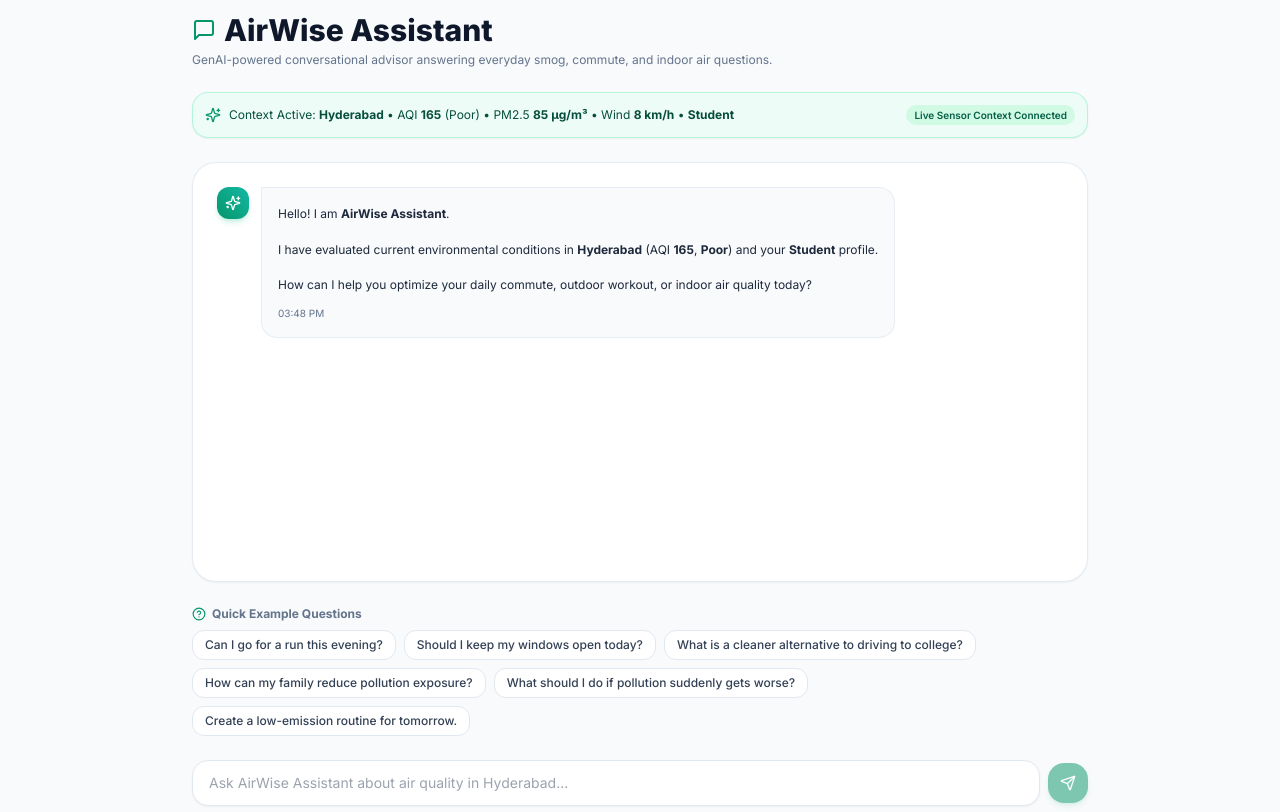
Test case: AirWise AI Frontend Application Tests › renders AssistantPage replies safely without injecting raw HTML script tags
The width and height of the screenshot is (1280, 812).
Type "Can I jog outside?" into the field with placeholder "Ask AirWise Assistant about air quality in Hyderabad..." at (616, 783), box [192, 760, 1040, 806]
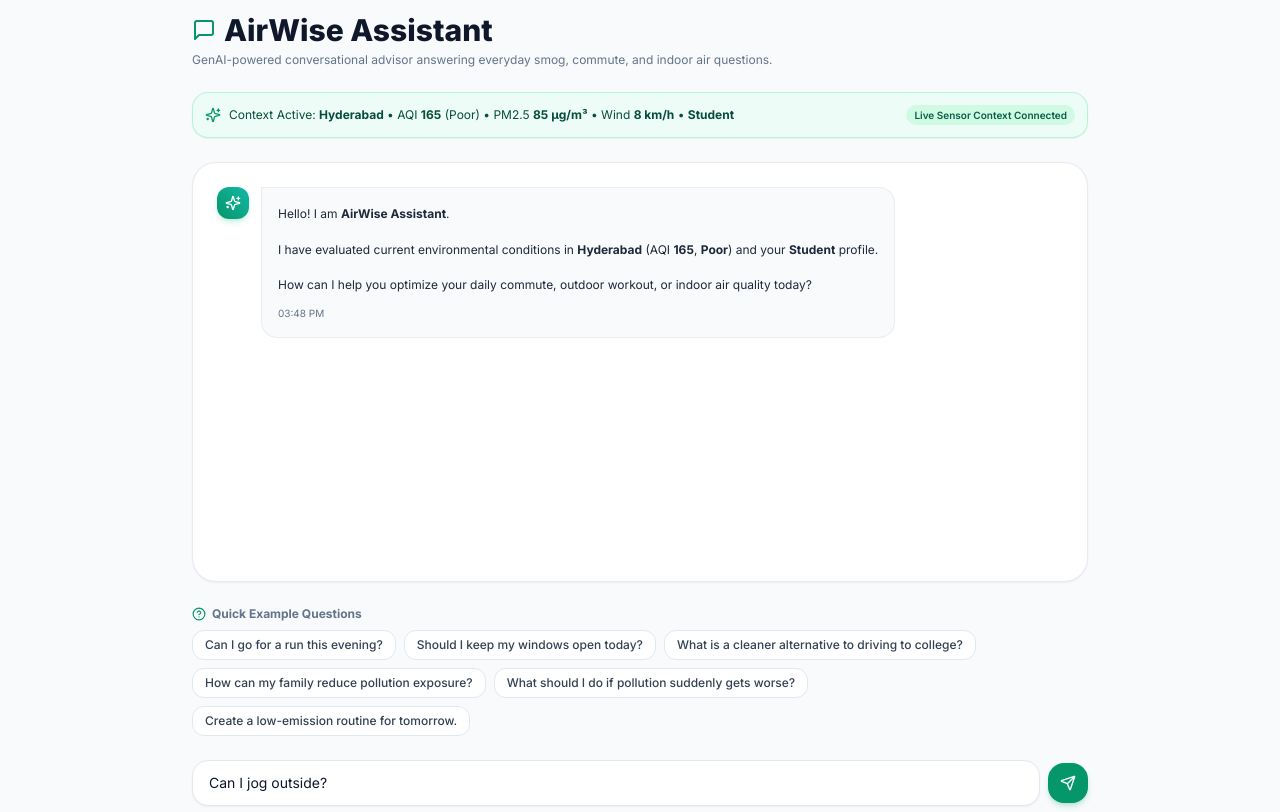
Submit the form with placeholder "Ask AirWise Assistant about air quality in Hyderabad", box [192, 760, 1088, 806]
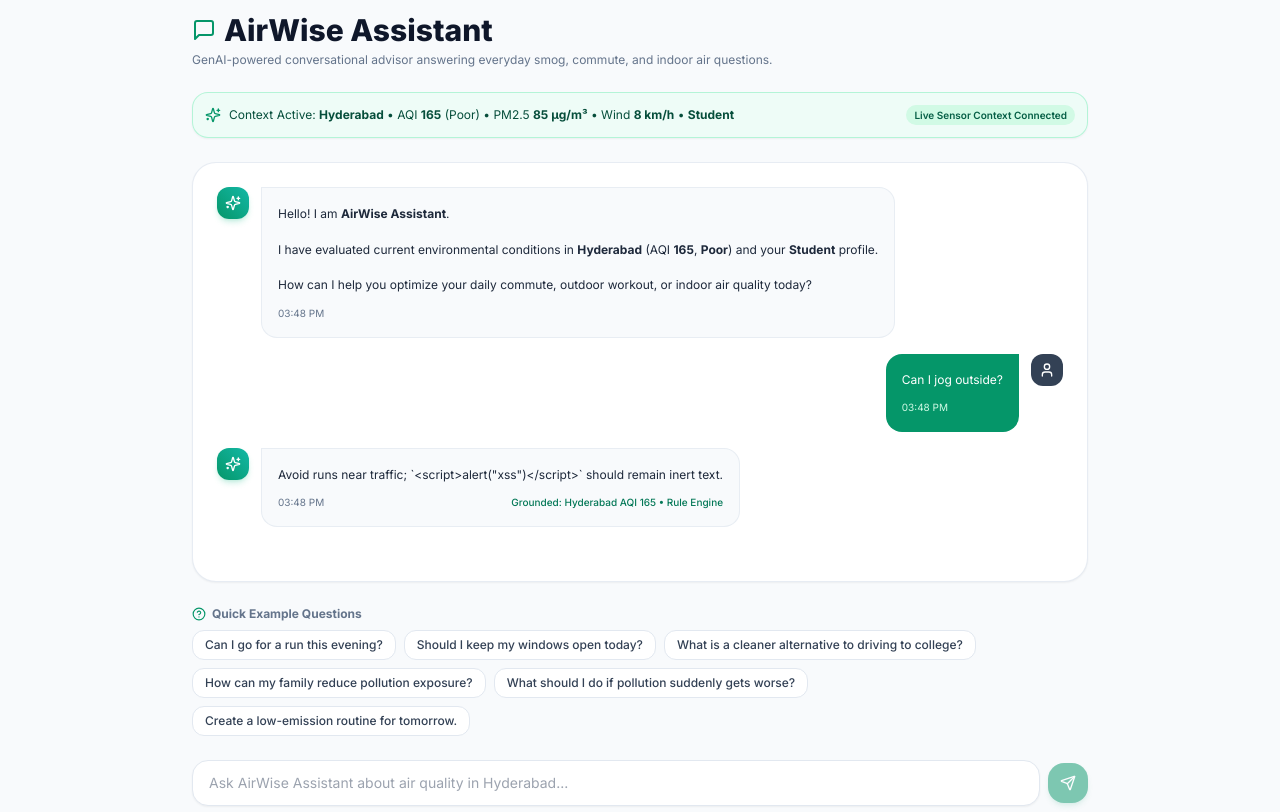
Now the text "should remain inert text" is shown, box [278, 466, 723, 482]
